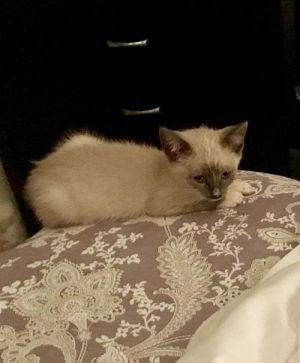siamese: (156, 113, 253, 216)
